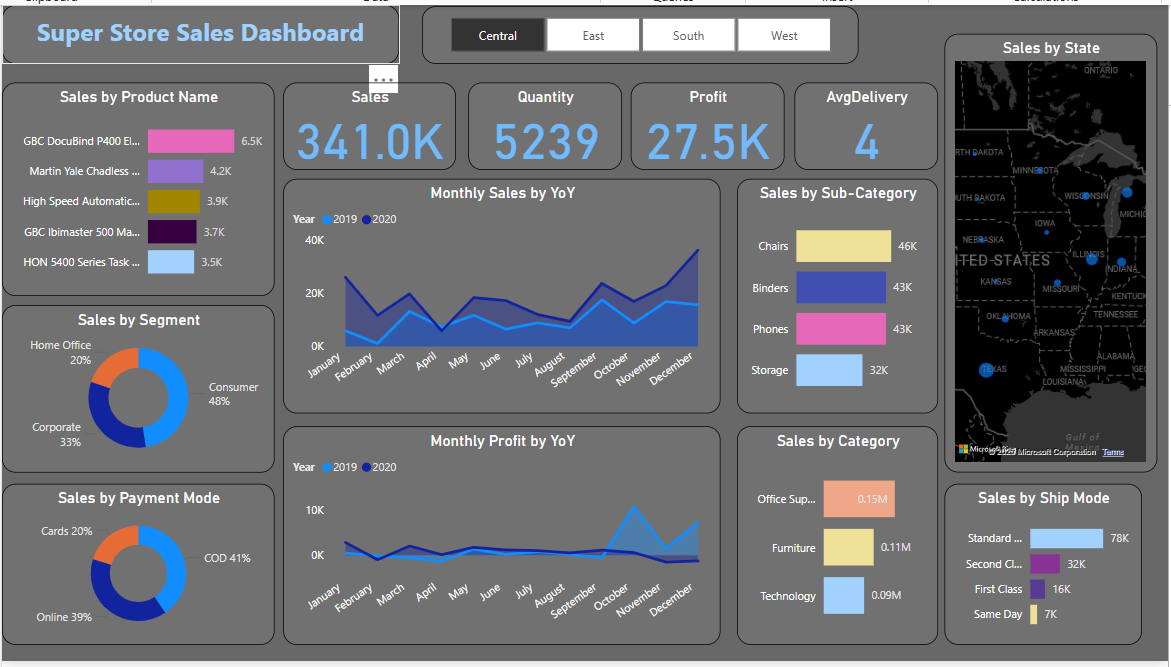

What the dashboard file says about the page in this screenshot:
{"tool":"powerbi","page":{"name":"Page 1","canvas":[1280,720],"ordinal":0},"visuals":[{"type":"clusteredBarChart","title":"Sales by Category","fields":{"Category":["SuperStore_Sales_Dataset.Category"],"Y":["Sum(SuperStore_Sales_Dataset.Sales)"]},"box":[806.9,462.4,220.9,240.1],"z":0},{"type":"clusteredBarChart","title":"Sales by Sub-Category","fields":{"Category":["SuperStore_Sales_Dataset.Sub-Category"],"Y":["Sum(SuperStore_Sales_Dataset.Sales)"]},"box":[806.9,190.7,220.9,258],"z":1000},{"type":"clusteredBarChart","title":"Sales by Ship Mode","fields":{"Y":["Sum(SuperStore_Sales_Dataset.Sales)"],"Category":["SuperStore_Sales_Dataset.Ship Mode"]},"box":[1034.7,525.6,216.8,177],"z":2000},{"type":"areaChart","title":"Monthly Sales by YoY","fields":{"Category":["SuperStore_Sales_Dataset.Order Date.Variation.Date Hierarchy.Month","SuperStore_Sales_Dataset.Order Date.Variation.Date Hierarchy.Day"],"Y":["Sum(SuperStore_Sales_Dataset.Sales)"],"Series":["SuperStore_Sales_Dataset.Order Date.Variation.Date Hierarchy.Year"]},"box":[308.7,190.7,480.3,258],"z":3000},{"type":"areaChart","title":"Monthly Profit by YoY","fields":{"Category":["SuperStore_Sales_Dataset.Order Date.Variation.Date Hierarchy.Month","SuperStore_Sales_Dataset.Order Date.Variation.Date Hierarchy.Day"],"Series":["SuperStore_Sales_Dataset.Order Date.Variation.Date Hierarchy.Year"],"Y":["Sum(SuperStore_Sales_Dataset.Profit)"]},"box":[308.7,462.4,480.3,240.1],"z":4000},{"type":"donutChart","title":"Sales by Segment","fields":{"Y":["Sum(SuperStore_Sales_Dataset.Sales)"],"Category":["SuperStore_Sales_Dataset.Segment"]},"box":[0,329.3,299.1,183.9],"z":5000},{"type":"donutChart","title":"Sales by Payment Mode","fields":{"Y":["Sum(SuperStore_Sales_Dataset.Sales)"],"Category":["SuperStore_Sales_Dataset.Payment Mode"]},"box":[0,525.6,299.1,177],"z":6000},{"type":"slicer","fields":{"Values":["SuperStore_Sales_Dataset.Region"]},"box":[461.1,1.4,478.9,63.1],"z":7000},{"type":"textbox","box":[0,0,436.4,64.5],"z":8000},{"type":"card","title":"Sales","fields":{"Values":["Sum(SuperStore_Sales_Dataset.Sales)"]},"box":[308.7,85.1,189.4,96.1],"z":9000},{"type":"card","title":"Quantity","fields":{"Values":["Sum(SuperStore_Sales_Dataset.Quantity)"]},"box":[511.8,85.1,168.8,96.1],"z":10000},{"type":"card","title":"Profit","fields":{"Values":["Sum(SuperStore_Sales_Dataset.Profit)"]},"box":[690.2,85.1,168.8,96.1],"z":11000},{"type":"card","title":"AvgDelivery","fields":{"Values":["Avg(SuperStore_Sales_Dataset.AvgDelivery)"]},"box":[870,85.1,157.8,96.1],"z":12000},{"type":"map","title":"Sales by State","fields":{"Category":["SuperStore_Sales_Dataset.State"],"Size":["Sum(SuperStore_Sales_Dataset.Sales)"]},"box":[1034.7,31.6,233.3,481.6],"z":13000},{"type":"clusteredBarChart","title":"Sales by Product Name","fields":{"Category":["SuperStore_Sales_Dataset.Product Name"],"Y":["Sum(SuperStore_Sales_Dataset.Sales)"]},"box":[0,85.1,299.1,234.6],"z":13001}]}

Visuals, with their boxes in screenshot pixels (x1, y1, x2, y2), scaled from the page's 1280x720 canvas onto the 1171x667 screenshot:
"Sales by Category" clusteredBarChart: (738, 428, 940, 651)
"Sales by Sub-Category" clusteredBarChart: (738, 177, 940, 416)
"Sales by Ship Mode" clusteredBarChart: (947, 487, 1145, 651)
"Monthly Sales by YoY" areaChart: (282, 177, 722, 416)
"Monthly Profit by YoY" areaChart: (282, 428, 722, 651)
"Sales by Segment" donutChart: (0, 305, 274, 475)
"Sales by Payment Mode" donutChart: (0, 487, 274, 651)
slicer - SuperStore_Sales_Dataset.Region: (422, 1, 860, 60)
textbox: (0, 0, 399, 60)
"Sales" card: (282, 79, 456, 168)
"Quantity" card: (468, 79, 623, 168)
"Profit" card: (631, 79, 786, 168)
"AvgDelivery" card: (796, 79, 940, 168)
"Sales by State" map: (947, 29, 1160, 475)
"Sales by Product Name" clusteredBarChart: (0, 79, 274, 296)
